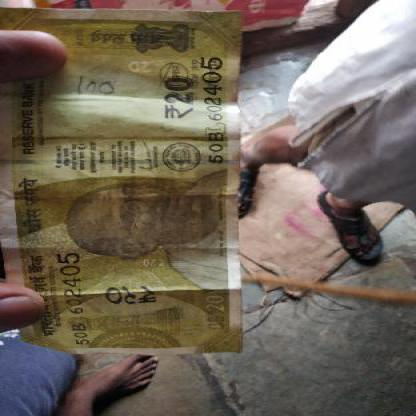New20Front: (2, 5, 241, 344)
